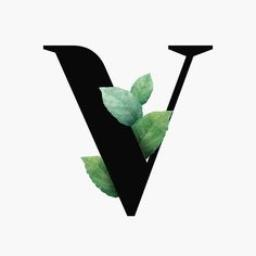v: (32, 32, 224, 228)
